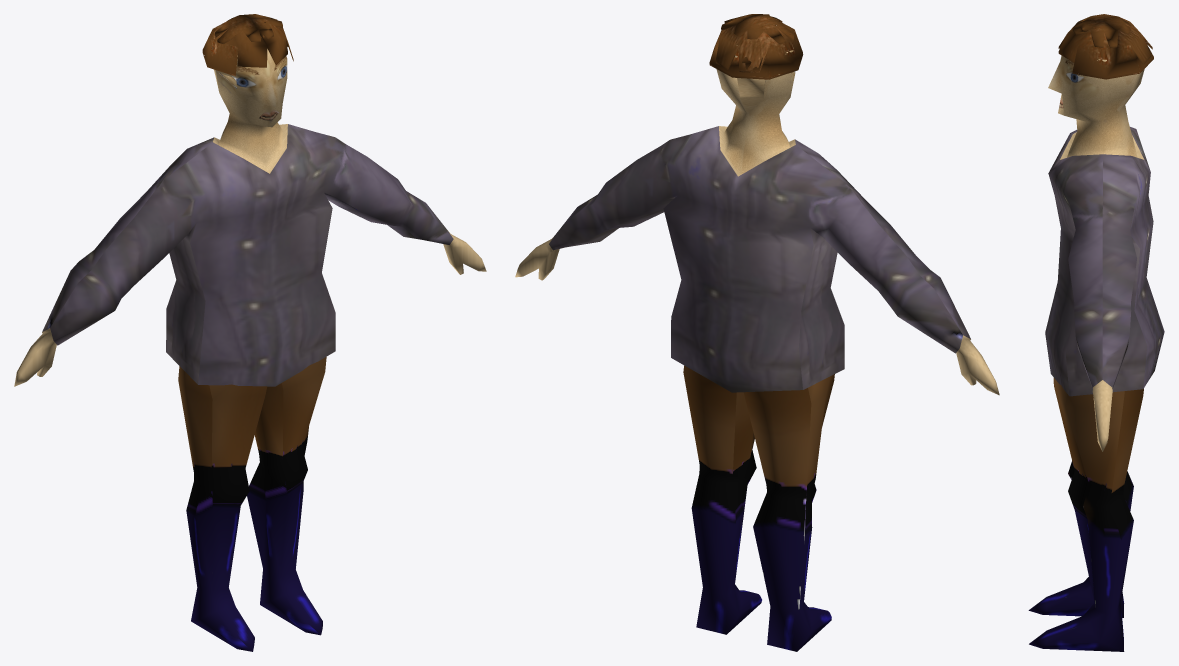
The model's file is Dareus4.obj.
The picture shows the model from 3 angles, left to right: view 1: azimuth 30°, elevation 25°; view 2: azimuth 150°, elevation 25°; view 3: azimuth 270°, elevation 25°; orthographic projection. The views are drawn at different scales.
Bounding box in the file's own units: 0.465 × 0.5625 × 0.1142.
1 material, 1 textured.
